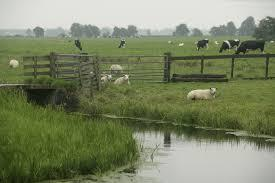cow: (236, 39, 267, 54), (187, 87, 219, 101), (219, 38, 241, 53), (112, 74, 132, 85), (71, 37, 85, 52), (100, 74, 113, 85), (196, 39, 210, 49), (109, 64, 125, 72), (116, 39, 127, 50), (9, 60, 19, 68)
